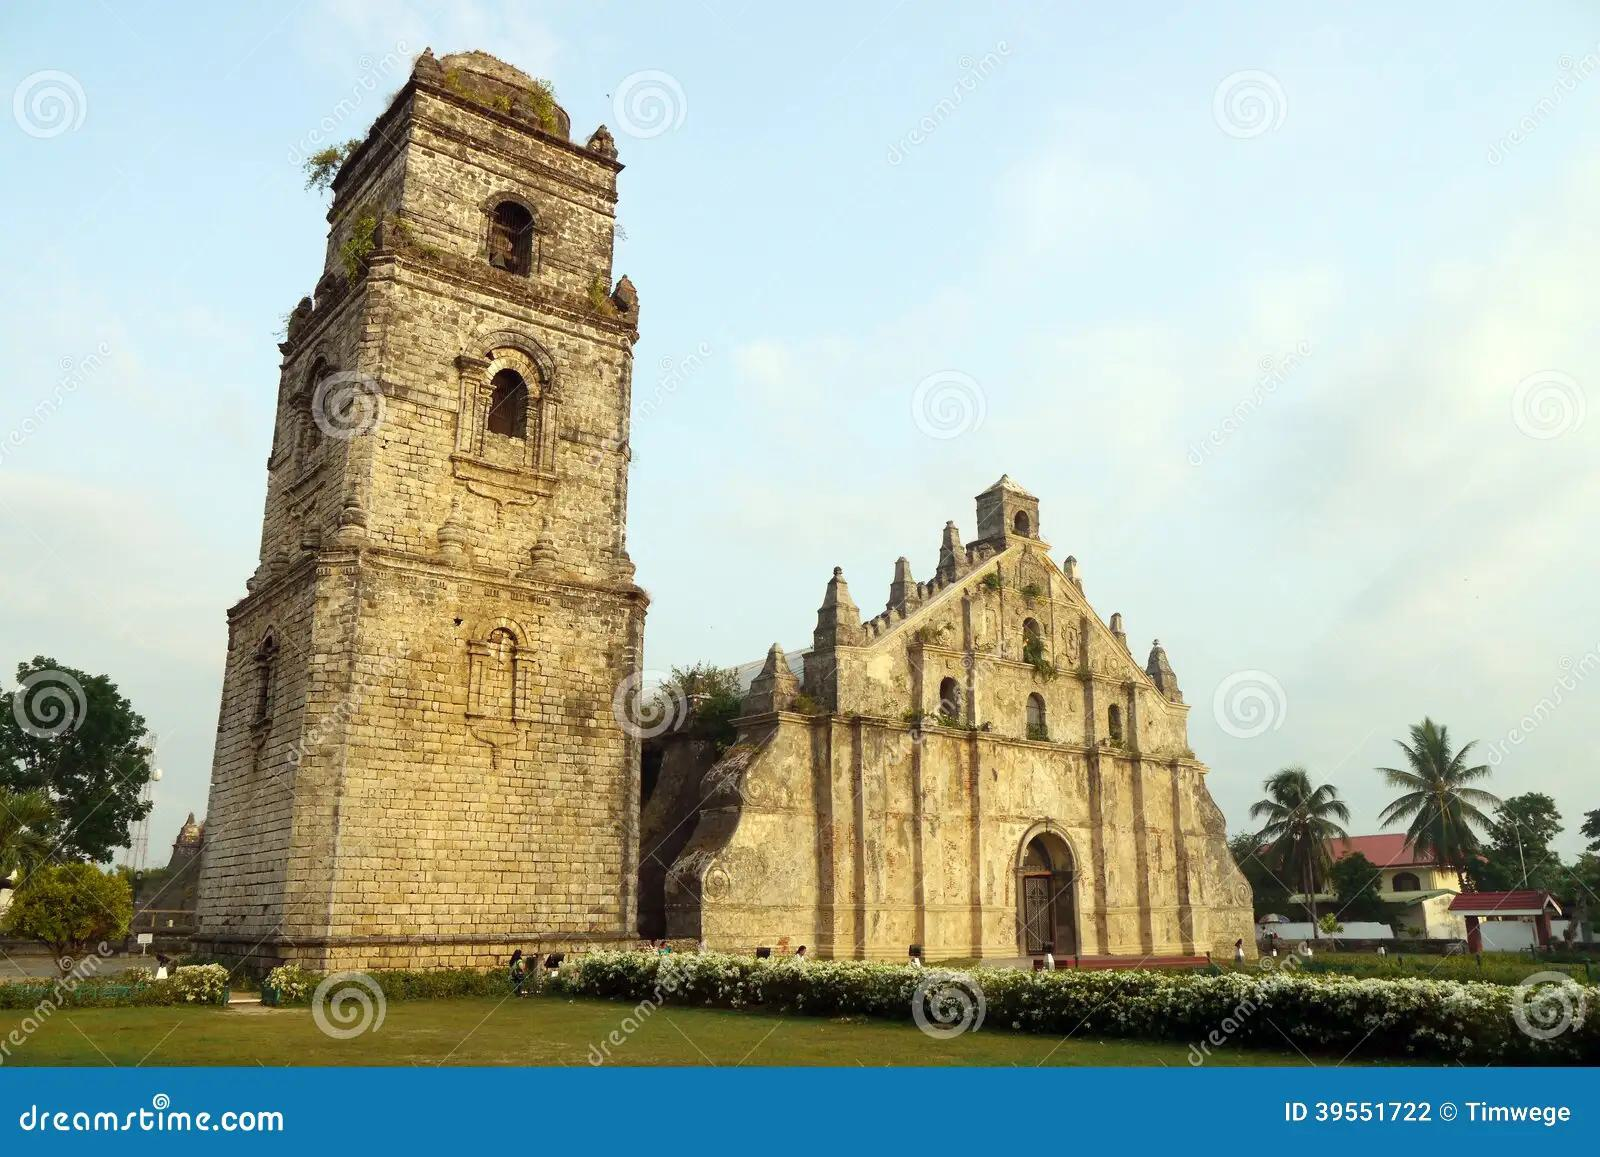paoay_church_paoay_ilocos_norte: (193, 31, 1272, 973)
vegetation_damage: (319, 213, 415, 287), (1019, 634, 1065, 685), (781, 687, 829, 721), (983, 560, 1007, 606)
